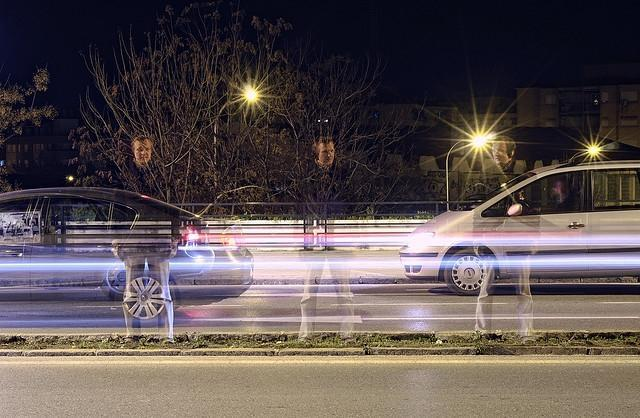car: (400, 157, 640, 298), (2, 189, 256, 322)
